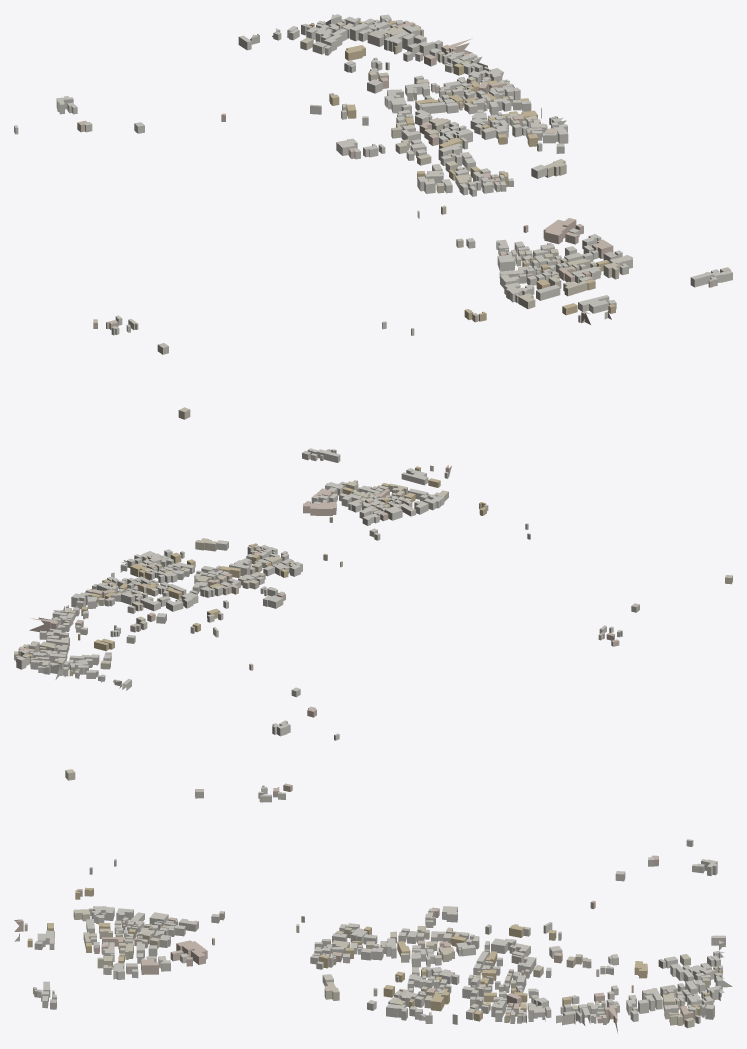
3 views of the same model, one above another, from view 1: azimuth 30°, elevation 25°; view 2: azimuth 150°, elevation 25°; view 3: azimuth 270°, elevation 25° (orthographic). The views are drawn at different scales.
Bounding box in the file's own units: 908 × 64.47 × 1025.
